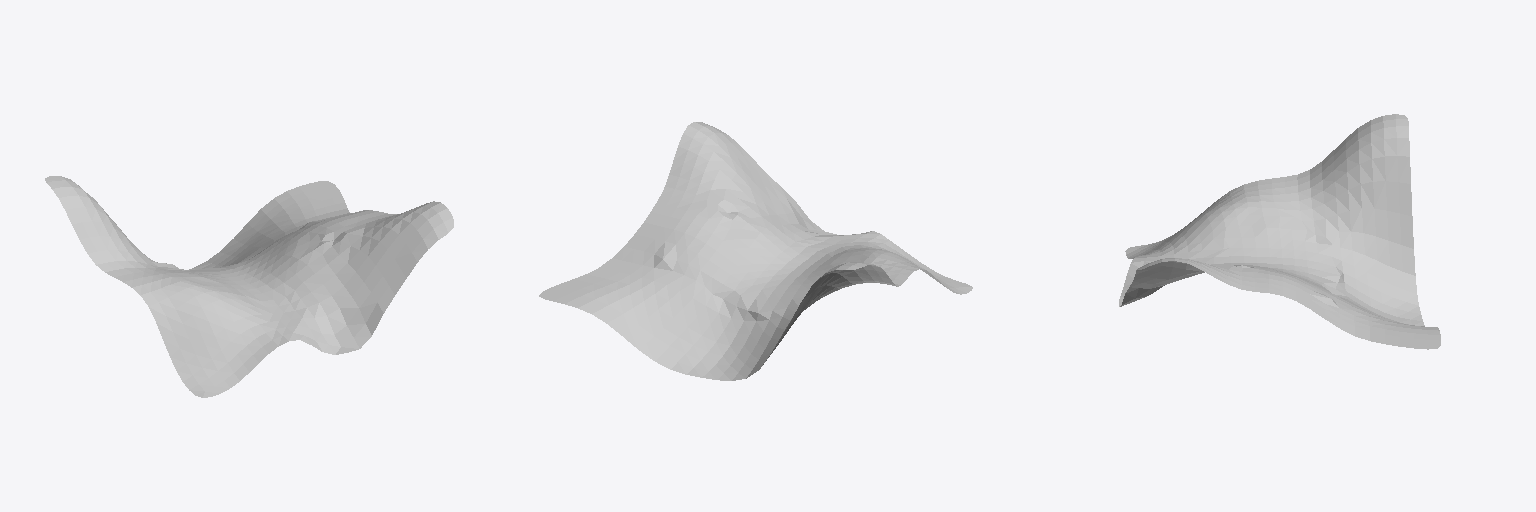
File: Mesh1_Original.obj
3 views of the same model, side by side, from view 1: azimuth 30°, elevation 25°; view 2: azimuth 150°, elevation 25°; view 3: azimuth 270°, elevation 25° (orthographic).
Parts seen in each view (by area): view 1: Original_Plane.004; view 2: Original_Plane.004; view 3: Original_Plane.004.
Part boxes in pixels (x1,y1,x2,y2): Original_Plane.004: (45, 176, 453, 397); Original_Plane.004: (539, 122, 972, 380); Original_Plane.004: (1119, 114, 1440, 349).
Bounding box in the file's own units: 2.52 × 1.08 × 2.31.